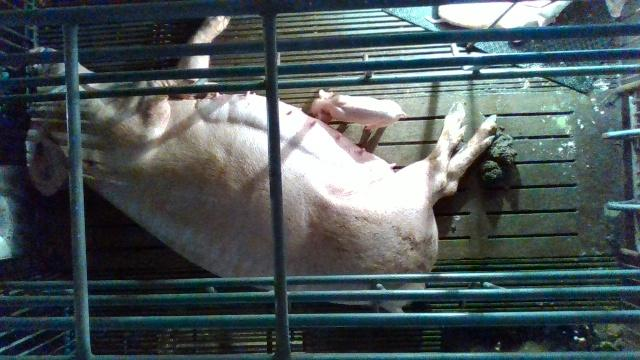piglet: (431, 2, 572, 32), (311, 90, 408, 132)
sow-sleep-lactate: (25, 14, 501, 314)
